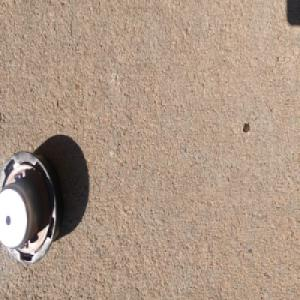FuelCap: (0, 146, 64, 266)
